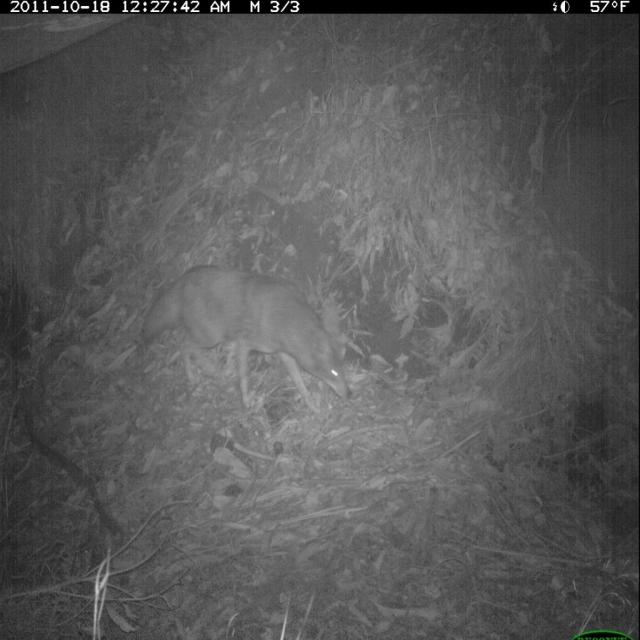coyote: (142, 258, 356, 426)
